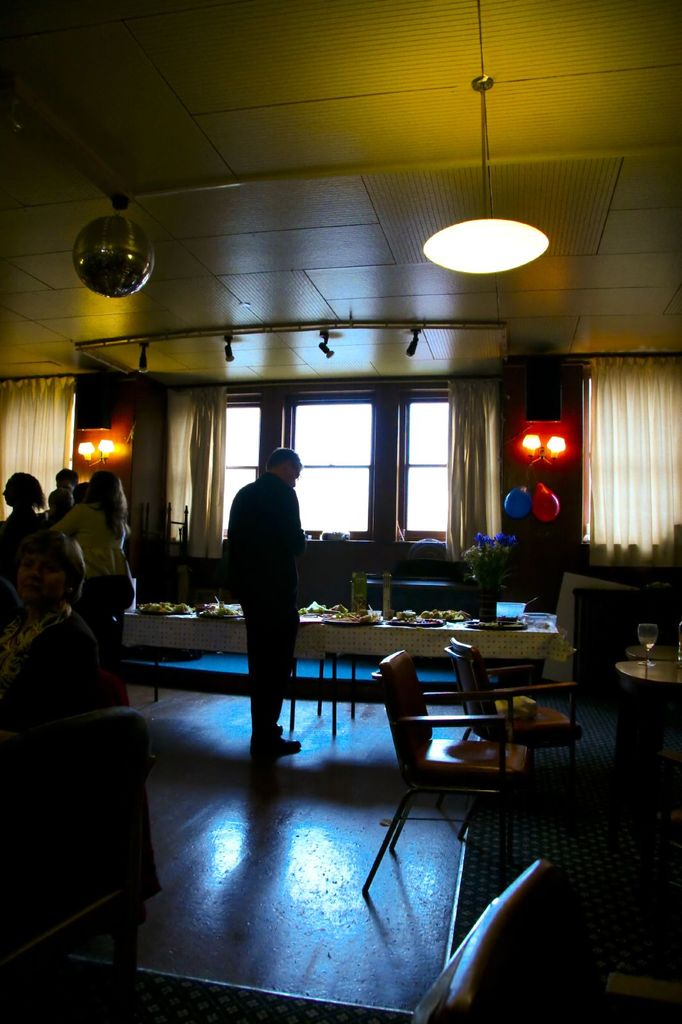Chair: (375, 855, 582, 1023), (429, 636, 590, 832)
